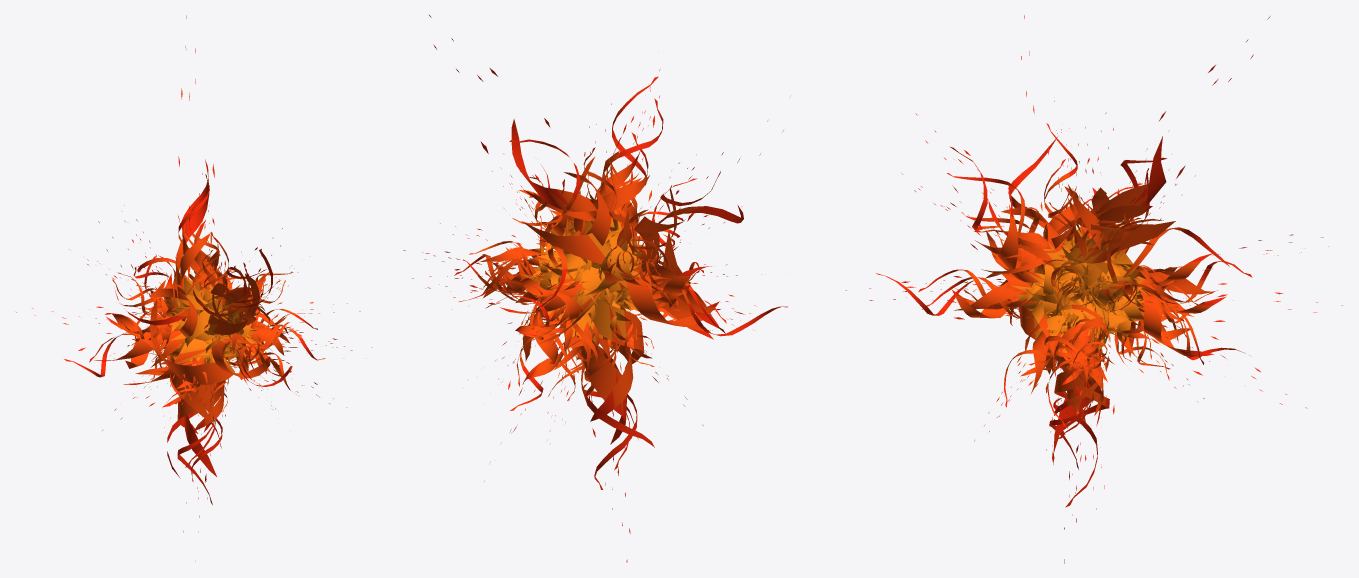
Rendered from fireball_06.obj.
3 renders of one model, left to right at view 1: azimuth 30°, elevation 25°; view 2: azimuth 150°, elevation 25°; view 3: azimuth 270°, elevation 25°, orthographic. The views are drawn at different scales.
Visible parts, largest first — view 1: Fireball; view 2: Fireball; view 3: Fireball.
Part boxes in pixels (box(x1,y1,x2,y2)): Fireball: box(16, 15, 371, 561); Fireball: box(403, 15, 787, 562); Fireball: box(845, 15, 1342, 563).
Bounding box in the file's own units: 1.72 × 2.3 × 1.76.
